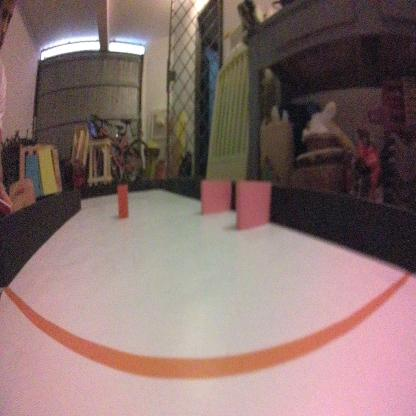magenta: (235, 179, 270, 229), (200, 177, 231, 215)
red: (115, 180, 130, 223)
